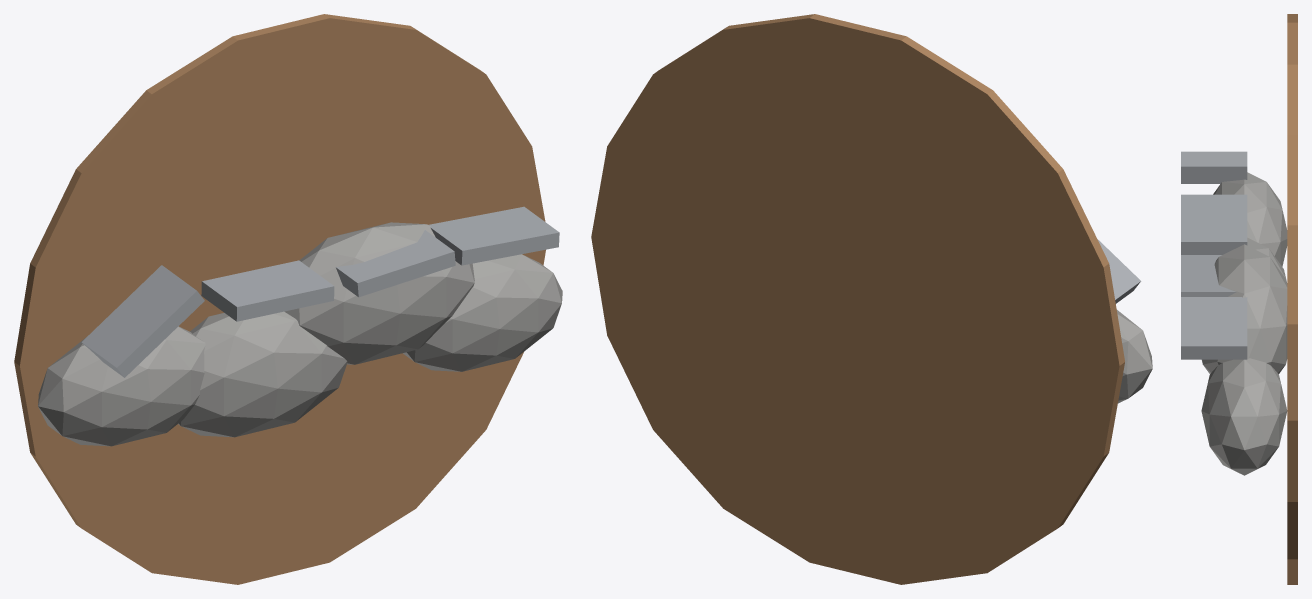
File: 02_display_prop_cluster.glb
The picture shows the model from 3 angles, left to right: view 1: azimuth 30°, elevation 25°; view 2: azimuth 150°, elevation 25°; view 3: azimuth 270°, elevation 25°; orthographic projection. The views are drawn at different scales.
Visible parts, largest first — view 1: scatter_base, scrap_rock_1, scrap_rock_2, scrap_rock_0, scrap_rock_3, scrap_plate_0, scrap_plate_1, scrap_plate_3, scrap_plate_2; view 2: scatter_base, scrap_rock_0, scrap_plate_0; view 3: scrap_rock_3, scatter_base, scrap_rock_2, scrap_plate_3, scrap_plate_1, scrap_rock_0, scrap_plate_0, scrap_plate_2, scrap_rock_1.
Boxes of the visible parts, x1,y1,x2,y2 form: scatter_base: (14, 14, 545, 584); scrap_rock_1: (178, 311, 347, 437); scrap_rock_2: (284, 222, 474, 364); scrap_rock_0: (38, 326, 205, 446); scrap_rock_3: (403, 254, 562, 371); scrap_plate_0: (81, 265, 204, 377); scrap_plate_1: (201, 260, 334, 321); scrap_plate_3: (429, 206, 559, 265); scrap_plate_2: (335, 230, 455, 297); scatter_base: (591, 14, 1124, 584); scrap_rock_0: (1116, 309, 1152, 403); scrap_plate_0: (1097, 239, 1140, 303); scrap_rock_3: (1201, 358, 1287, 475); scatter_base: (1287, 14, 1297, 584); scrap_rock_2: (1202, 244, 1287, 374); scrap_plate_3: (1181, 297, 1247, 359); scrap_plate_1: (1181, 194, 1247, 254); scrap_rock_0: (1213, 172, 1287, 266); scrap_plate_0: (1181, 151, 1247, 183); scrap_plate_2: (1181, 255, 1236, 296); scrap_rock_1: (1247, 237, 1287, 283).
Bounding box in the file's own units: 1.92 × 1.87 × 0.3875.
